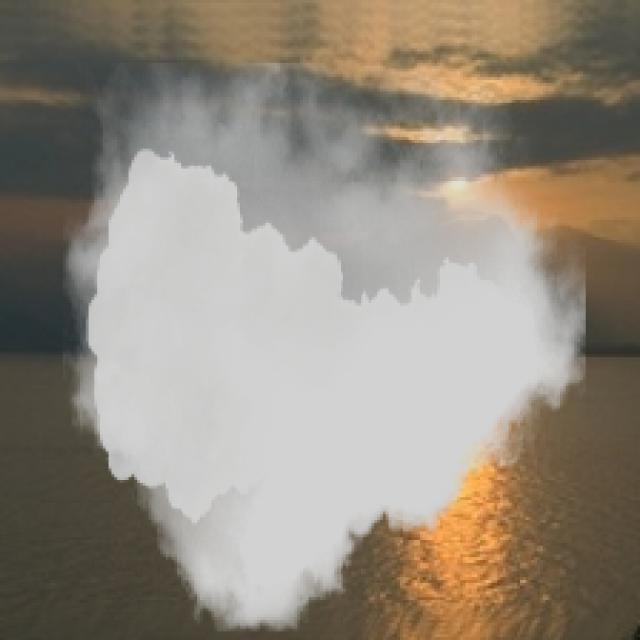smoke: (63, 63, 586, 631)
